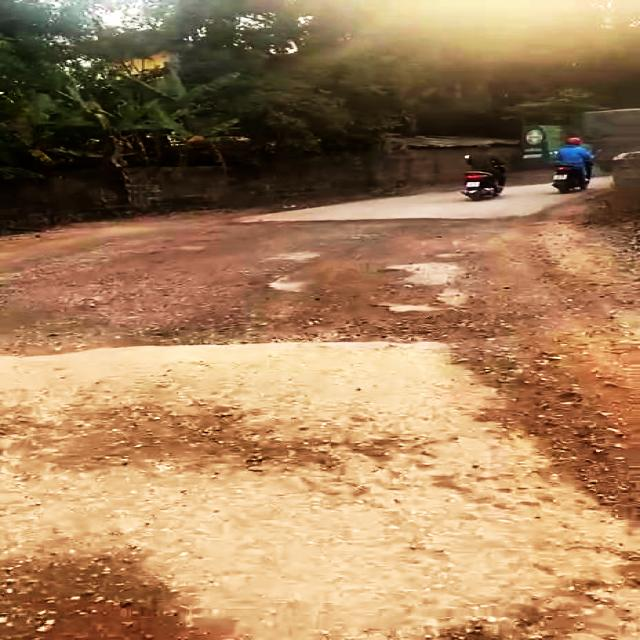pothole: (6, 299, 460, 364), (0, 543, 237, 640), (425, 566, 640, 640)
